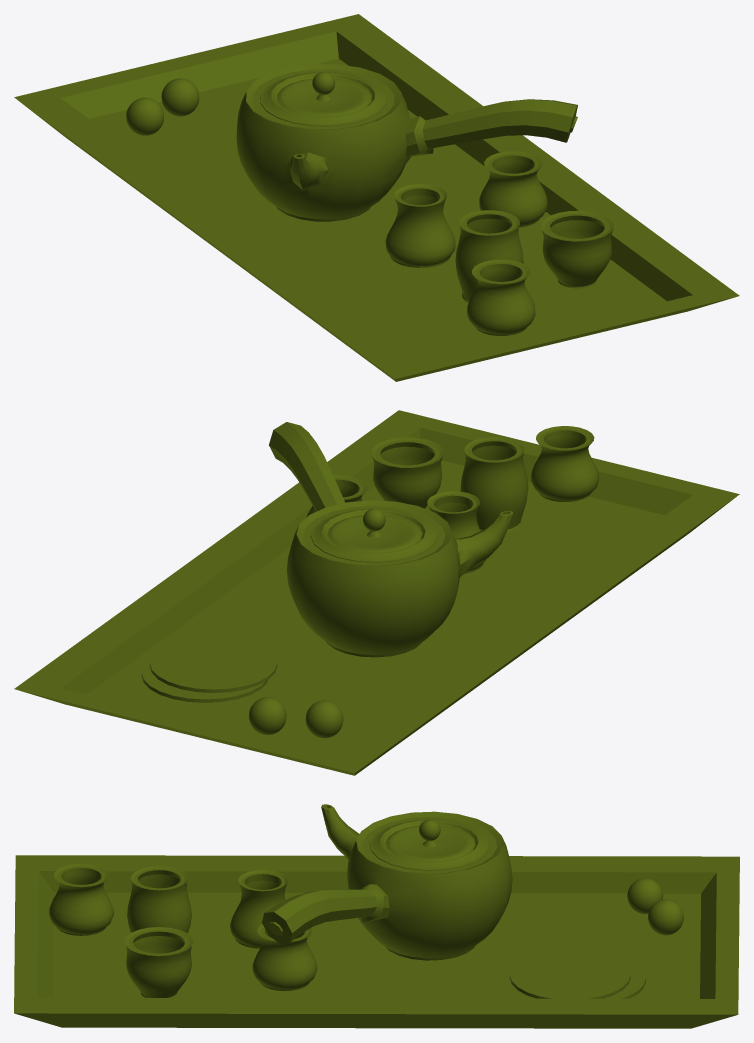
The model's file is decor.obj.
The picture shows the model from 3 angles, top to bottom: view 1: azimuth 30°, elevation 25°; view 2: azimuth 150°, elevation 25°; view 3: azimuth 270°, elevation 25°; orthographic projection. The views are drawn at different scales.
Visible parts, largest first — view 1: polySurface51; view 2: polySurface51; view 3: polySurface51.
Boxes of the visible parts, left/top/right/bottom form: polySurface51: left=14, top=14, right=739, bottom=381; polySurface51: left=14, top=410, right=739, bottom=775; polySurface51: left=14, top=804, right=739, bottom=1028.
Bounding box in the file's own units: 0.7662 × 0.2887 × 1.47.
